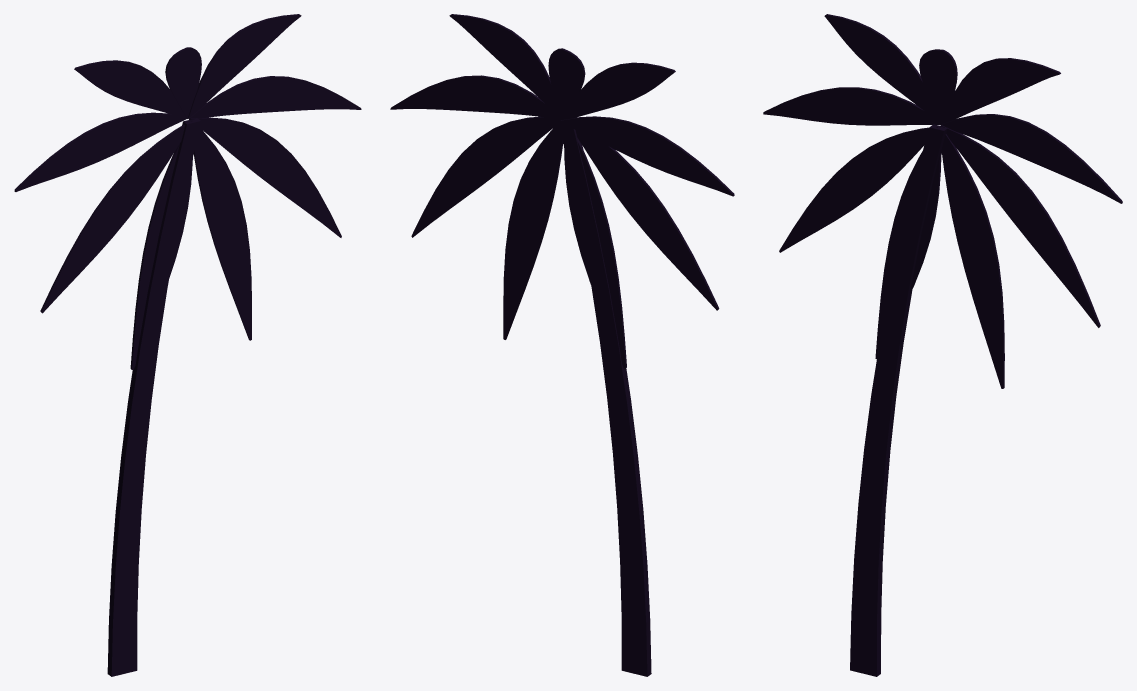
The model's file is palm_silhouette.glb.
3 renders of one model, left to right at view 1: azimuth 30°, elevation 25°; view 2: azimuth 150°, elevation 25°; view 3: azimuth 330°, elevation 25°, orthographic. The views are drawn at different scales.
Visible parts, largest first — view 1: palm_silhouette; view 2: palm_silhouette; view 3: palm_silhouette.
Boxes of the visible parts, x1,y1,x2,y2 form: palm_silhouette: (14,14,361,676); palm_silhouette: (390,14,734,676); palm_silhouette: (763,14,1122,676).
Bounding box in the file's own units: 14.79 × 25.3 × 0.6.
